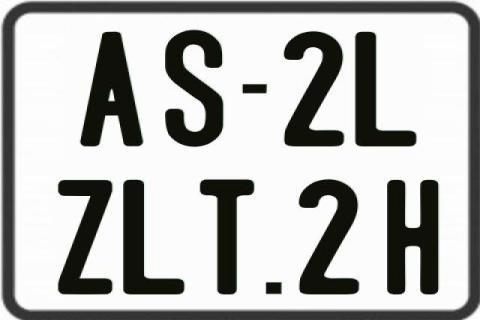0: (281, 31, 346, 149), (296, 178, 358, 296)
A: (80, 31, 146, 151)
H: (386, 179, 437, 293)
L: (122, 179, 188, 296), (355, 31, 420, 146)
S: (164, 28, 224, 148)
T: (198, 177, 253, 297)
Z: (55, 180, 114, 297)
